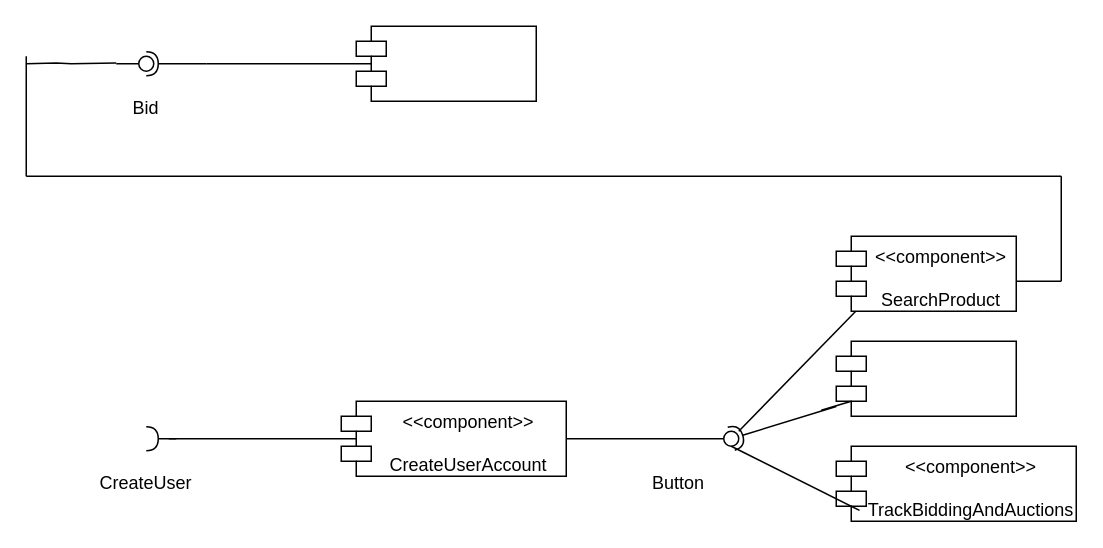
This 1103x548 diagram has some shape labels left out. Each missing label, with the centre of its shape:
<<component>> BidOnProduct: point (445, 63)
<<component>> CreateAuction: point (925, 378)
